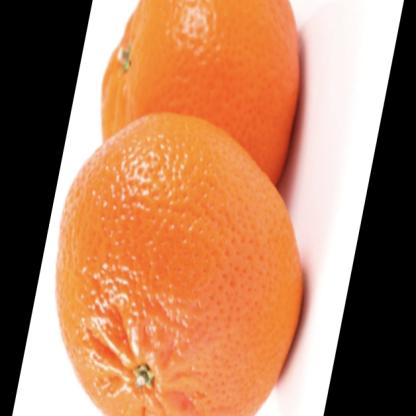fresh: (57, 2, 308, 416)
